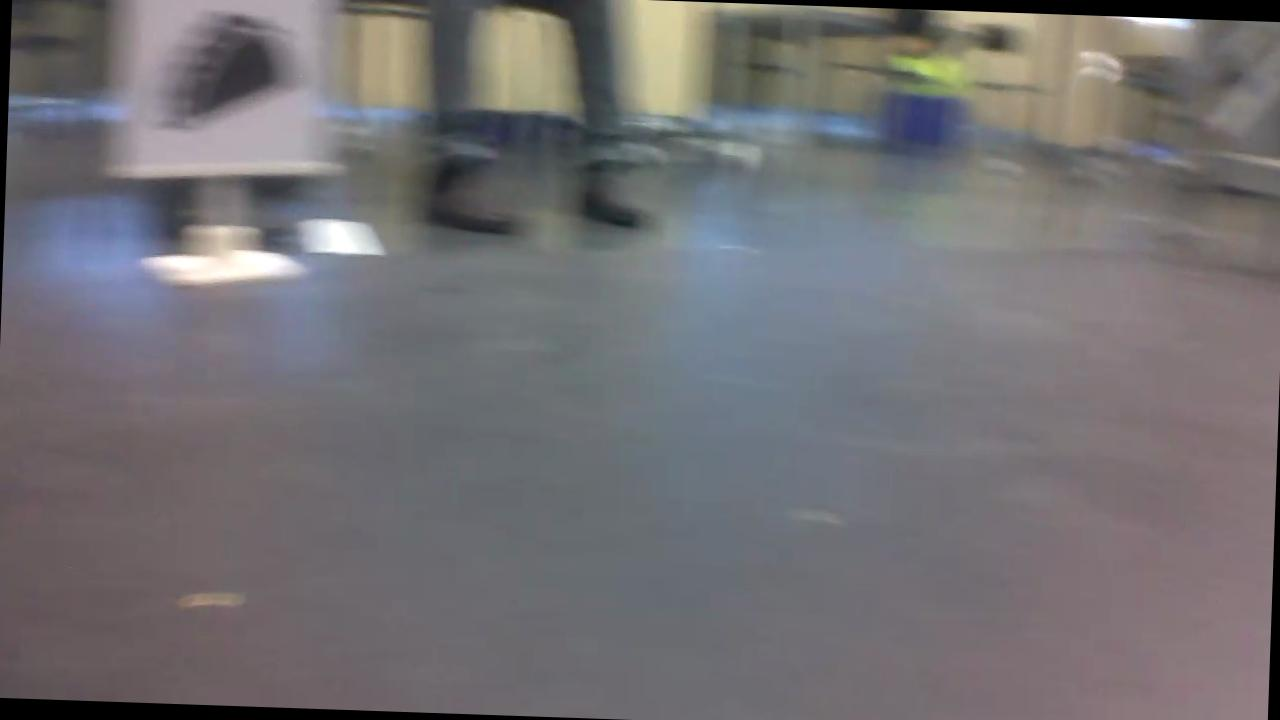taco: (144, 1, 310, 146)
